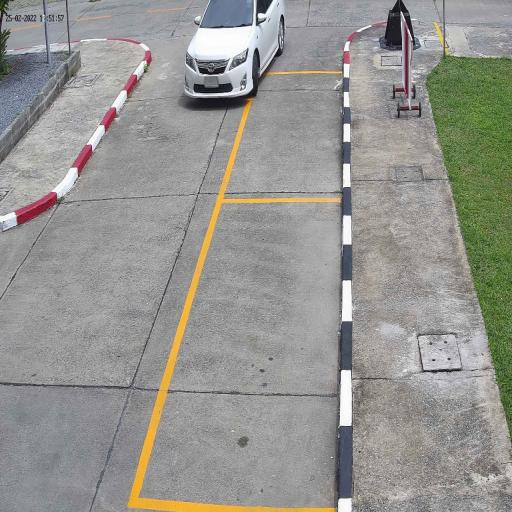car: (182, 0, 288, 101)
